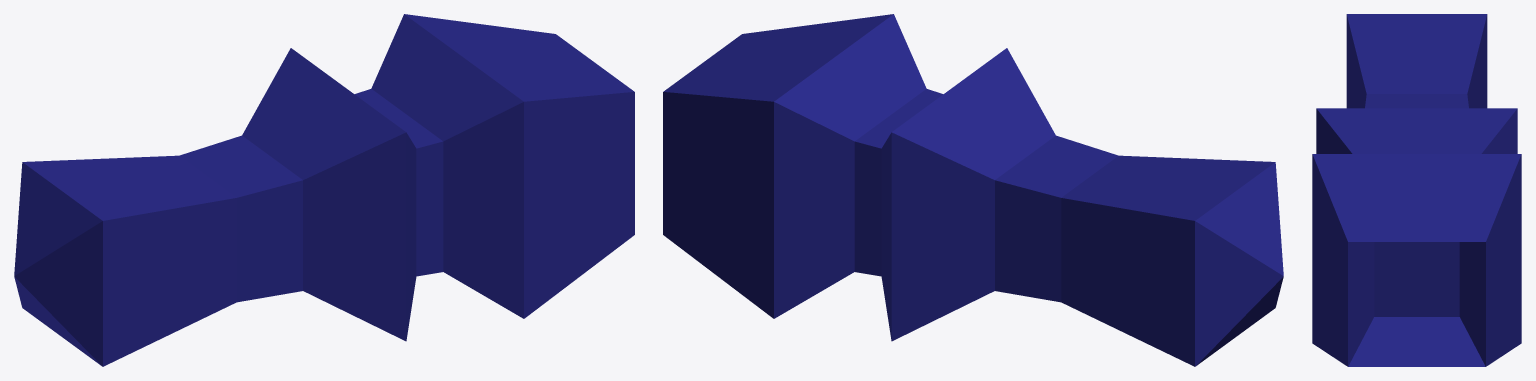
Rendered from turret.fbx.
3 renders of one model, left to right at view 1: azimuth 30°, elevation 25°; view 2: azimuth 150°, elevation 25°; view 3: azimuth 270°, elevation 25°, orthographic. The views are drawn at different scales.
Visible parts, largest first — view 1: gun1; view 2: gun1; view 3: gun1.
Part boxes in pixels (x1,y1,x2,y2): gun1: (14, 14, 634, 366); gun1: (663, 14, 1283, 366); gun1: (1312, 14, 1521, 366).
Bounding box in the file's own units: 914 × 326 × 326.
